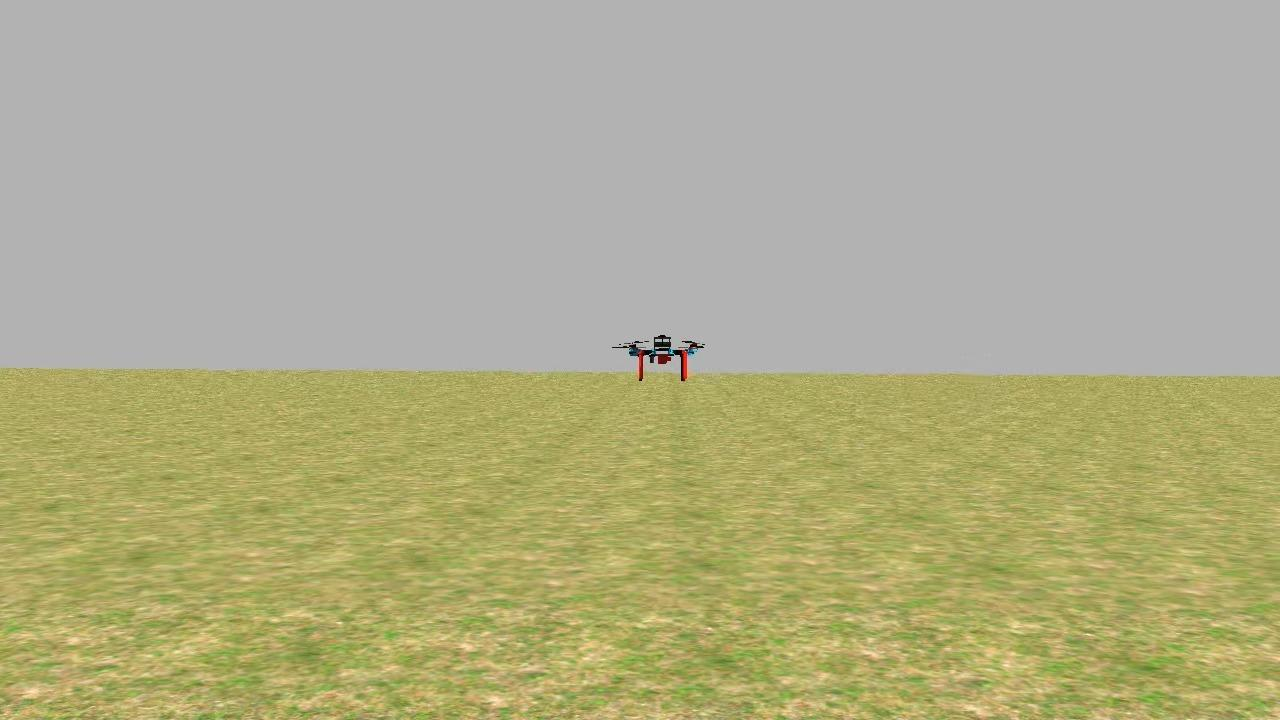UAV: (612, 311, 723, 386)
